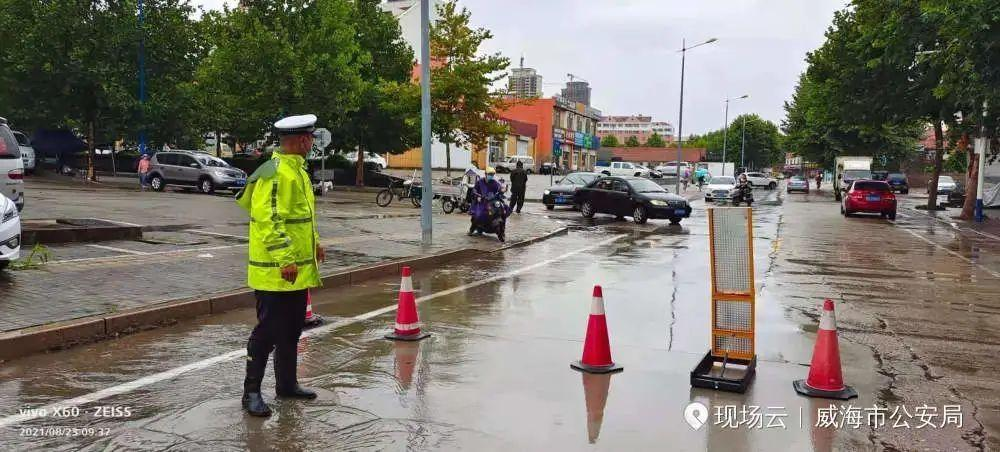cone_barrel: (794, 297, 855, 399), (568, 285, 620, 387), (384, 263, 428, 341)
